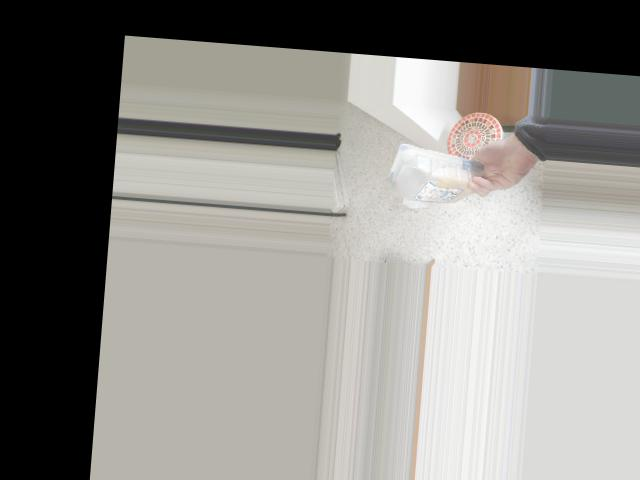cheese: (384, 146, 482, 206)
